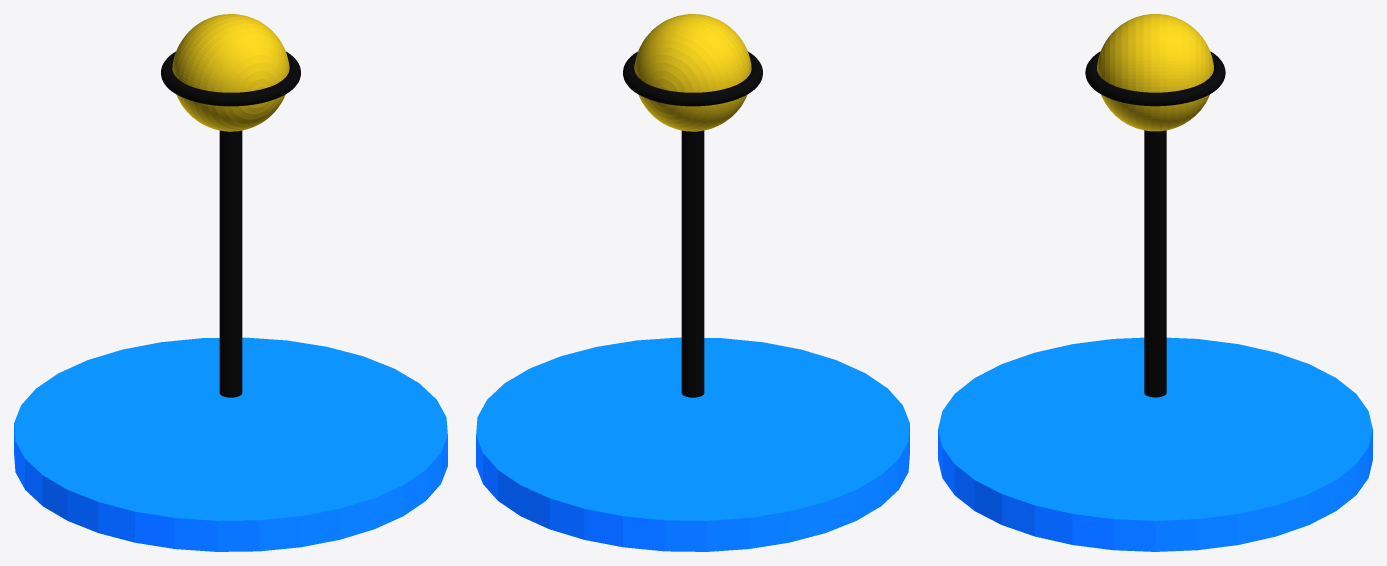
The model's file is french_street_lamp.dae.
3 renders of one model, left to right at view 1: azimuth 30°, elevation 25°; view 2: azimuth 150°, elevation 25°; view 3: azimuth 270°, elevation 25°, orthographic.
Parts seen in each view (by area): view 1: 10_20_Popular_French_Street_Lamp_ROOT_base, 10_20_Popular_French_Street_Lamp_part_02, 10_20_Popular_French_Street_Lamp_part_01, 10_20_Popular_French_Street_Lamp_part_03; view 2: 10_20_Popular_French_Street_Lamp_ROOT_base, 10_20_Popular_French_Street_Lamp_part_02, 10_20_Popular_French_Street_Lamp_part_01, 10_20_Popular_French_Street_Lamp_part_03; view 3: 10_20_Popular_French_Street_Lamp_ROOT_base, 10_20_Popular_French_Street_Lamp_part_02, 10_20_Popular_French_Street_Lamp_part_01, 10_20_Popular_French_Street_Lamp_part_03.
Part boxes in pixels (x1,y1,x2,y2): 10_20_Popular_French_Street_Lamp_ROOT_base: [14, 337, 447, 551]; 10_20_Popular_French_Street_Lamp_part_02: [172, 14, 289, 131]; 10_20_Popular_French_Street_Lamp_part_01: [219, 130, 242, 397]; 10_20_Popular_French_Street_Lamp_part_03: [161, 51, 300, 106]; 10_20_Popular_French_Street_Lamp_ROOT_base: [476, 337, 909, 551]; 10_20_Popular_French_Street_Lamp_part_02: [634, 14, 751, 131]; 10_20_Popular_French_Street_Lamp_part_01: [681, 130, 704, 397]; 10_20_Popular_French_Street_Lamp_part_03: [623, 51, 762, 106]; 10_20_Popular_French_Street_Lamp_ROOT_base: [938, 337, 1372, 551]; 10_20_Popular_French_Street_Lamp_part_02: [1097, 14, 1213, 131]; 10_20_Popular_French_Street_Lamp_part_01: [1144, 130, 1166, 397]; 10_20_Popular_French_Street_Lamp_part_03: [1085, 51, 1225, 106].
Size of the model in its own units: 0.76 by 0.85 by 0.76.
